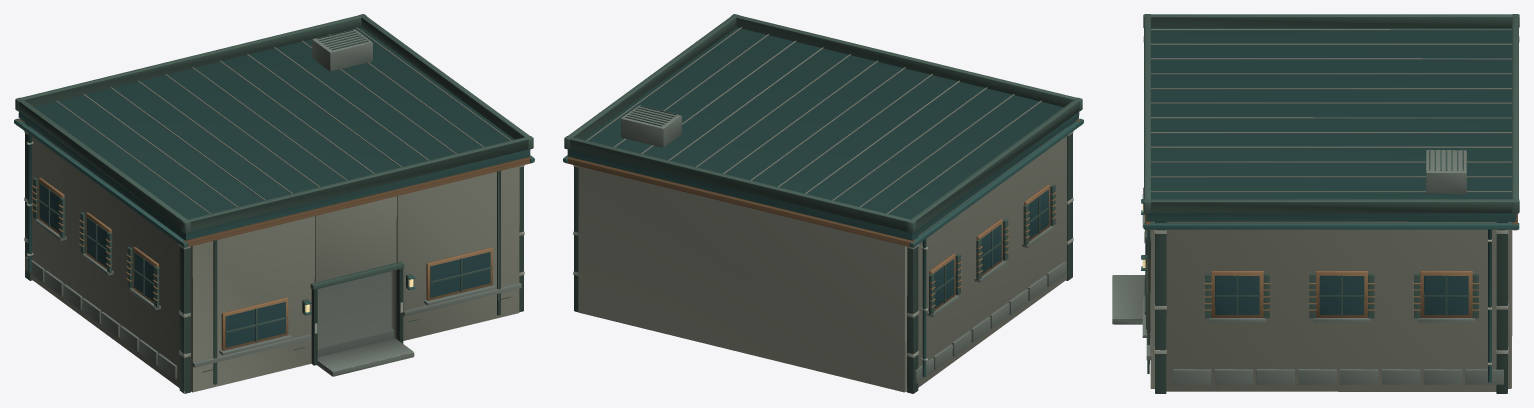
File: kf-barracks-balanced.glb
3 views of the same model, side by side, from view 1: azimuth 30°, elevation 25°; view 2: azimuth 150°, elevation 25°; view 3: azimuth 270°, elevation 25° (orthographic). The views are drawn at different scales.
Visible parts, largest first — view 1: Roof Roof metal, Shell Painted plaster, RoofDetail Timber trim, Shell Foundation, Shell Timber trim, Shell Window glass, Shell Warm wood, RoofDetail Brushed hardware, Shell Roof metal, RoofDetail Foundation; view 2: Shell Painted plaster, Roof Roof metal, RoofDetail Timber trim, Shell Timber trim, RoofDetail Brushed hardware, Shell Warm wood, Shell Foundation, Shell Roof metal, Shell Window glass, RoofDetail Foundation; view 3: Roof Roof metal, Shell Painted plaster, RoofDetail Timber trim, RoofDetail Brushed hardware, Shell Foundation, Shell Timber trim, Shell Window glass, Shell Roof metal, Shell Warm wood, RoofDetail Foundation, Shell Brushed hardware.
Part boxes in pixels (x1,y1,x2,y2): Roof Roof metal: (18,27,530,240); Shell Painted plaster: (31,127,519,392); RoofDetail Timber trim: (15,14,533,233); Shell Foundation: (25,218,521,379); Shell Timber trim: (25,122,523,393); Shell Window glass: (39,183,490,347); Shell Warm wood: (16,119,532,350); RoofDetail Brushed hardware: (56,27,511,213); Shell Roof metal: (14,118,534,315); RoofDetail Foundation: (312,29,372,71); Shell Painted plaster: (578,127,1066,392); Roof Roof metal: (567,27,1079,240); RoofDetail Timber trim: (564,14,1082,233); Shell Timber trim: (574,123,1072,393); RoofDetail Brushed hardware: (586,27,1041,213); Shell Warm wood: (565,119,1080,310); Shell Foundation: (905,225,1066,391); Shell Roof metal: (563,118,1083,377); Shell Window glass: (934,190,1048,308); RoofDetail Foundation: (621,105,681,147); Roof Roof metal: (1146,27,1516,221); Shell Painted plaster: (1150,221,1512,391); RoofDetail Timber trim: (1143,14,1519,213); RoofDetail Brushed hardware: (1151,29,1511,192); Shell Foundation: (1112,187,1503,384); Shell Timber trim: (1144,221,1507,393); Shell Window glass: (1146,262,1468,329); Shell Roof metal: (1141,36,1519,382); Shell Warm wood: (1145,213,1517,333); RoofDetail Foundation: (1426,150,1466,193); Shell Brushed hardware: (1144,230,1508,365).
Bounding box in the file's own units: 12.88 × 6.61 × 11.69.
